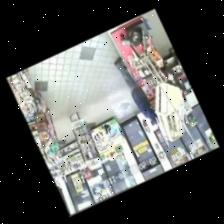person: (114, 57, 156, 123)
